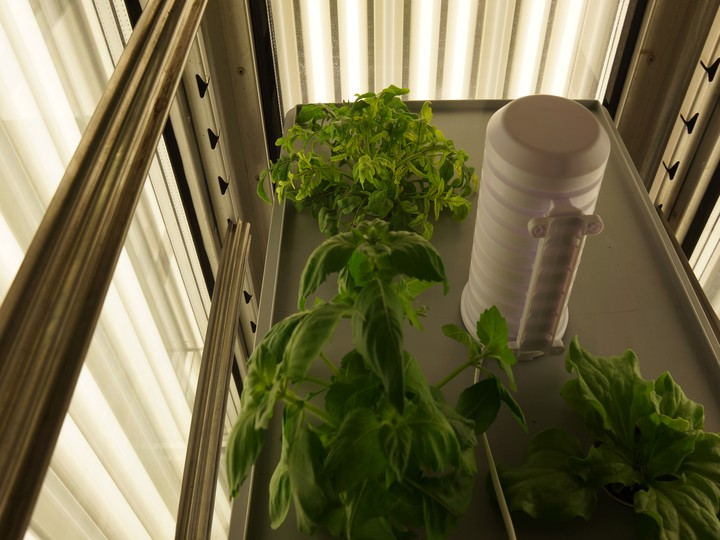basilic_blue_spice: (219, 220, 528, 540)
ficoide_glaciale: (512, 328, 717, 540)
roquette_sauvage_red_veined: (252, 84, 481, 235)
